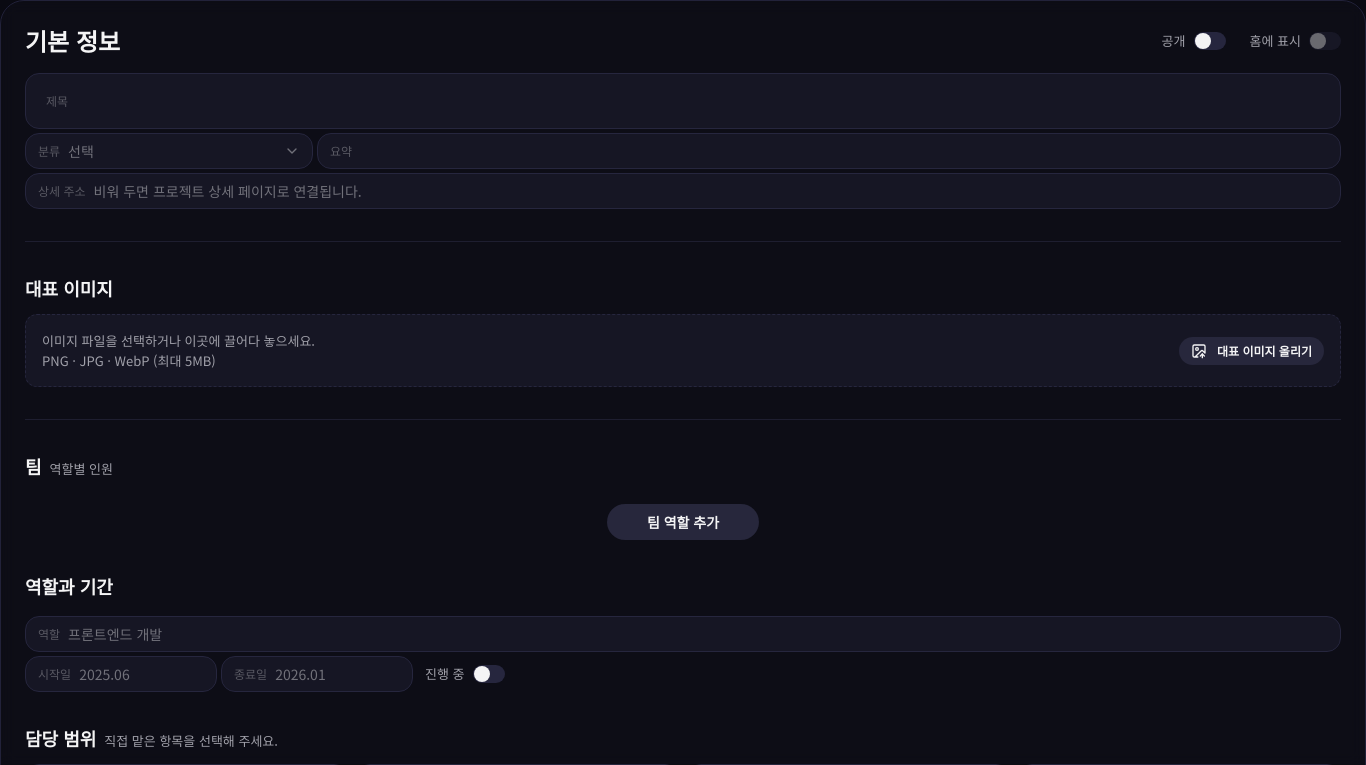
Test: ProjectForm › 분류는 정해 둔 목록에서 고른다
Click the dropdown labelled "분류" at (49, 150), box [25, 133, 313, 169]
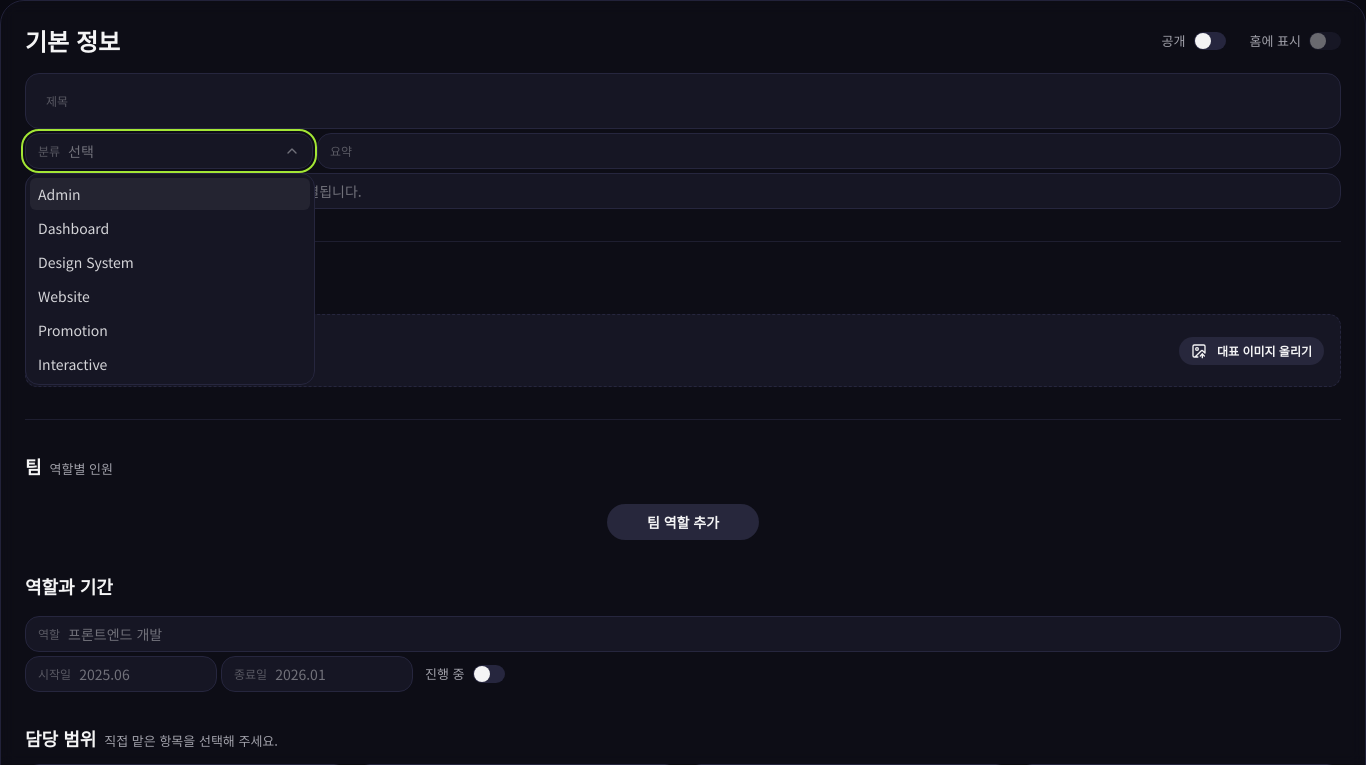
Result: the options read "Admin", "Dashboard", "Design System", "Website", "Promotion", "Interactive", in this order at [30, 178, 310, 210]; [38, 218, 109, 238]; [38, 252, 134, 272]; [38, 286, 90, 306]; [38, 320, 108, 340]; [38, 354, 107, 374]
